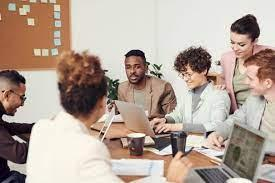No_Goggles: (125, 64, 143, 70)
